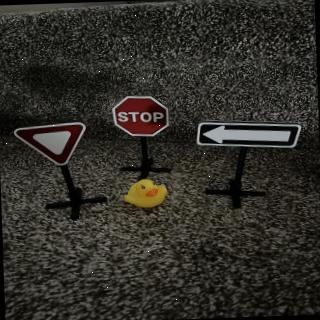duck_regular: (125, 180, 170, 211)
sign_oneway_left: (197, 120, 304, 154)
sign_stop: (113, 97, 172, 142)
sign_yield: (15, 123, 89, 169)
